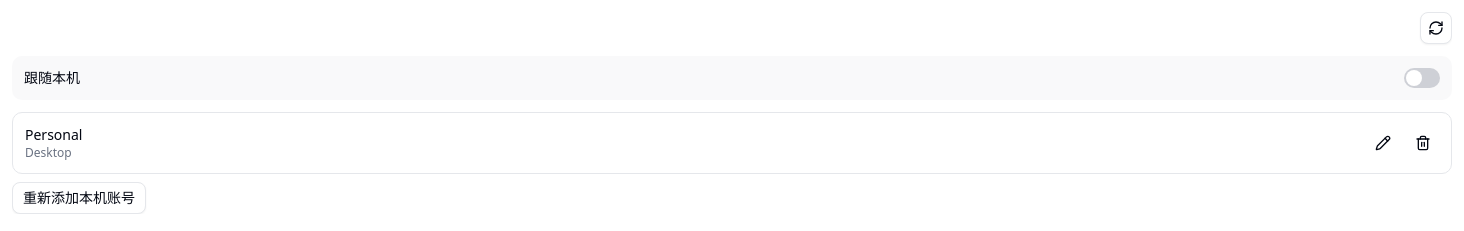
it: ProviderAccountControls quota refresh › returns cursor to the local default after its pinned account becomes inactive
The image size is (1464, 231).
Click the switch named "跟随本机" at point(1422, 78), box 1404,68 -> 1440,88
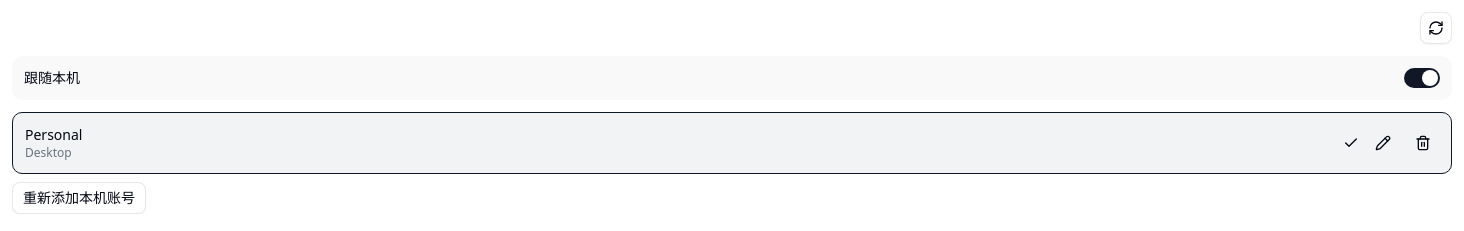
Result: the switch named "跟随本机" is checked at 1404,68 -> 1440,88
Result: the radio button labelled "Personal Desktop" is checked at 25,125 -> 1359,161
